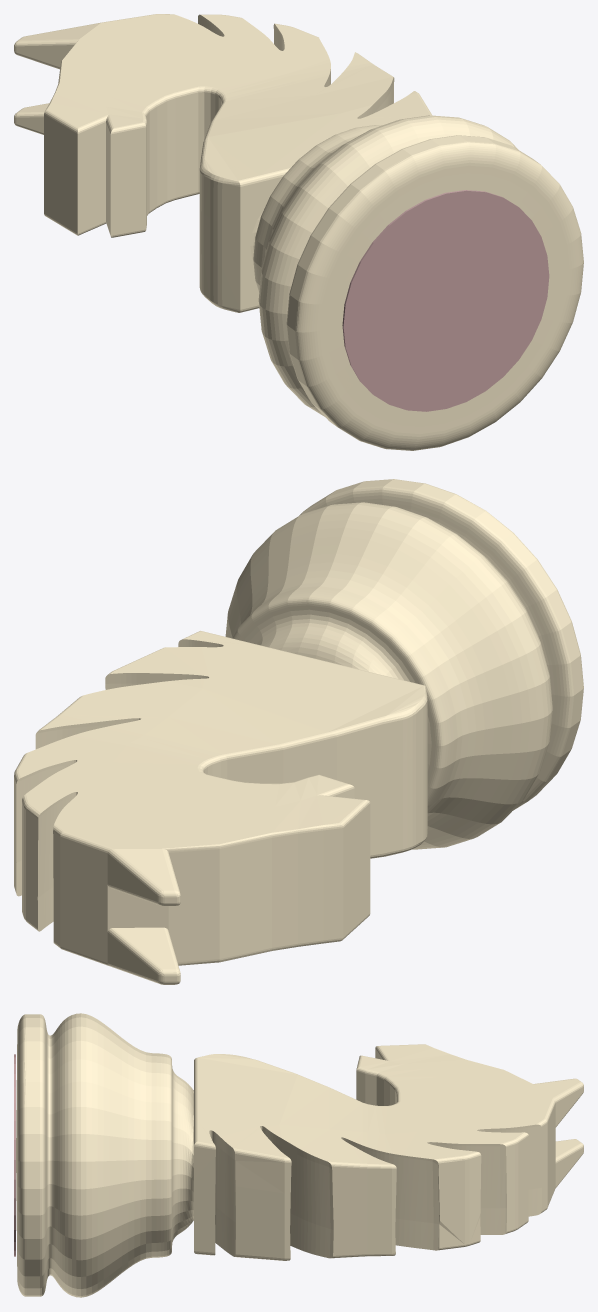
The model's file is knight.glb.
3 renders of one model, top to bottom at view 1: azimuth 30°, elevation 25°; view 2: azimuth 150°, elevation 25°; view 3: azimuth 270°, elevation 25°, orthographic. The views are drawn at different scales.
Visible parts, largest first — view 1: Knight_Plastic_0, Knight_Velvet_0; view 2: Knight_Plastic_0; view 3: Knight_Plastic_0, Knight_Velvet_0.
Boxes of the visible parts, x1,y1,x2,y2 form: Knight_Plastic_0: (14, 14, 583, 450); Knight_Velvet_0: (342, 190, 549, 411); Knight_Plastic_0: (14, 479, 583, 984); Knight_Plastic_0: (16, 1013, 583, 1297); Knight_Velvet_0: (14, 1054, 15, 1256).
Bounding box in the file's own units: 0.0289 × 0.0274 × 0.0549.
